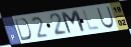2: (48, 12, 69, 38), (30, 16, 50, 39)
D: (14, 18, 33, 42)
L: (81, 8, 102, 32)
M: (60, 9, 88, 36)
U: (96, 6, 116, 30)
